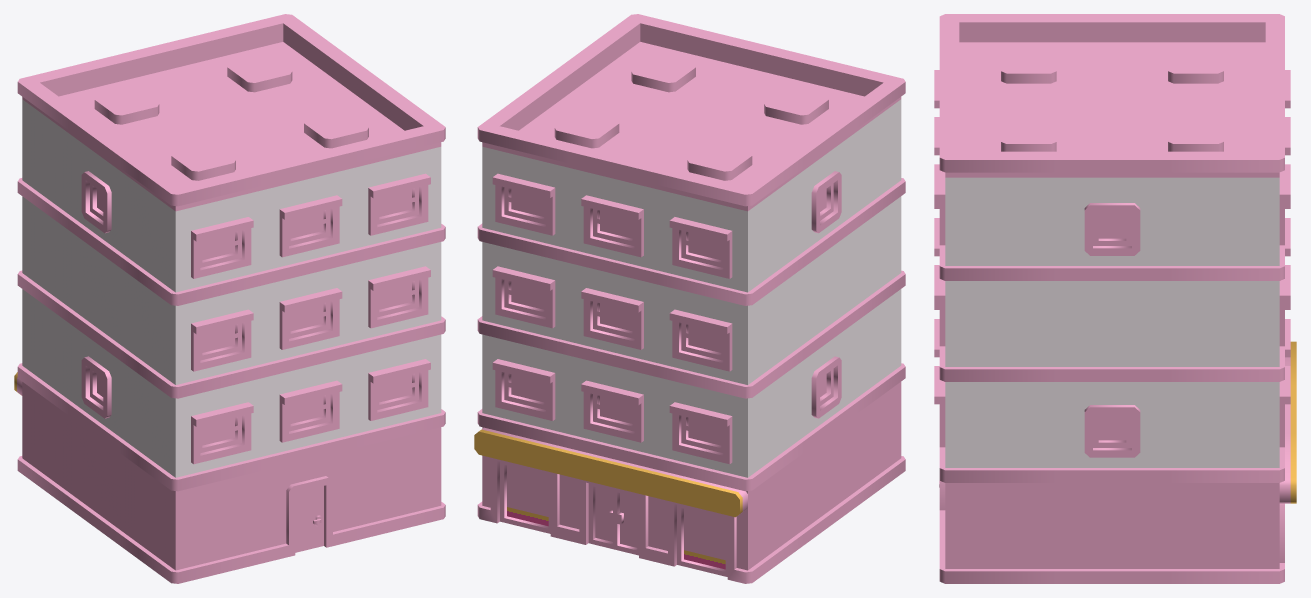
The model's file is building_i.obj.
3 views of the same model, side by side, from view 1: azimuth 30°, elevation 25°; view 2: azimuth 150°, elevation 25°; view 3: azimuth 270°, elevation 25° (orthographic). The views are drawn at different scales.
Visible parts, largest first — view 1: building-i; view 2: building-i; view 3: building-i.
Part boxes in pixels (<box>): building-i: <box>14,14,445,583</box>; building-i: <box>474,14,905,583</box>; building-i: <box>934,14,1296,583</box>.
Size of the model in its own units: 24.8 by 33.6 by 26.04.
Materials: 1 (1 with a texture image).
